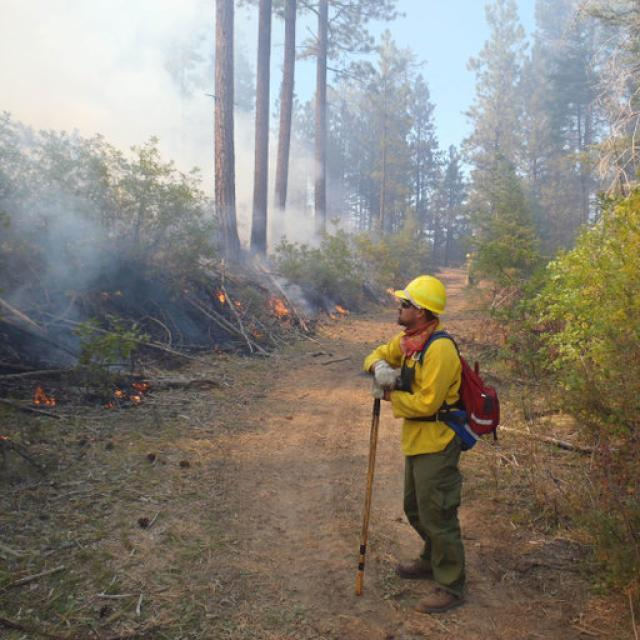Fire: (94, 375, 154, 413), (22, 382, 62, 412), (213, 288, 250, 314), (266, 294, 296, 323)
Smoke: (0, 0, 325, 239), (0, 196, 120, 375), (203, 207, 330, 327)
